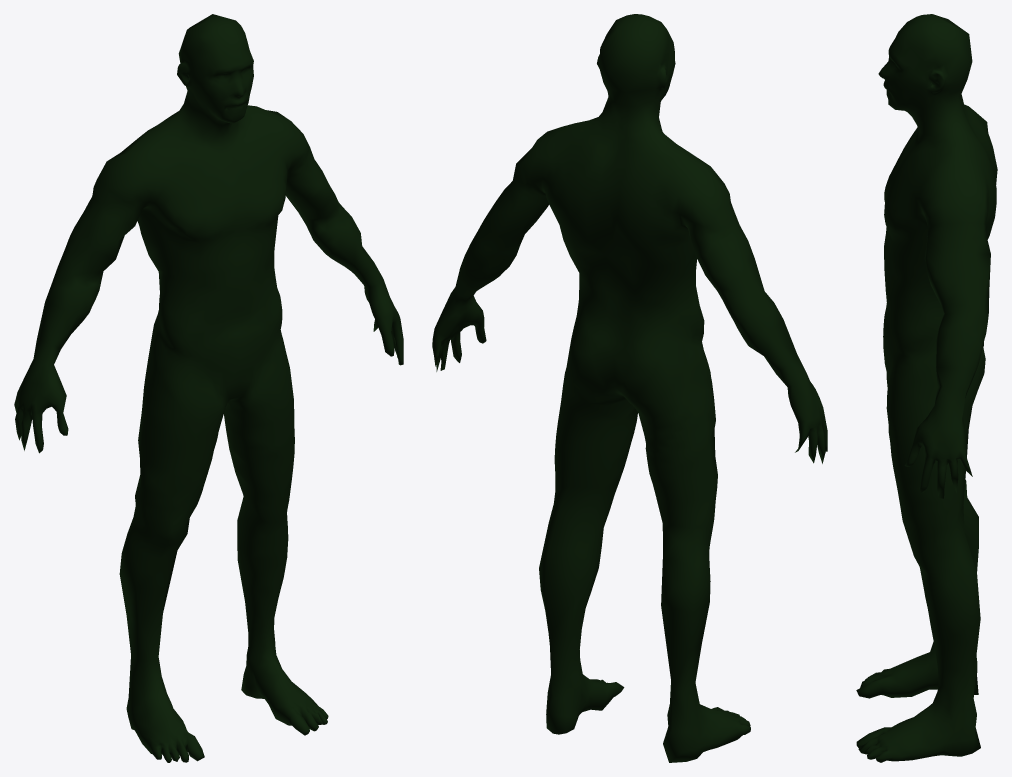
The picture shows the model from 3 angles, left to right: view 1: azimuth 30°, elevation 25°; view 2: azimuth 150°, elevation 25°; view 3: azimuth 270°, elevation 25°; orthographic projection.
Visible parts, largest first — view 1: FinalBaseMesh; view 2: FinalBaseMesh; view 3: FinalBaseMesh.
Boxes of the visible parts, x1,y1,x2,y2 form: FinalBaseMesh: [14, 14, 403, 762]; FinalBaseMesh: [432, 14, 827, 762]; FinalBaseMesh: [856, 14, 997, 762].
Bounding box in the file's own units: 11.65 × 20.71 × 3.76.
